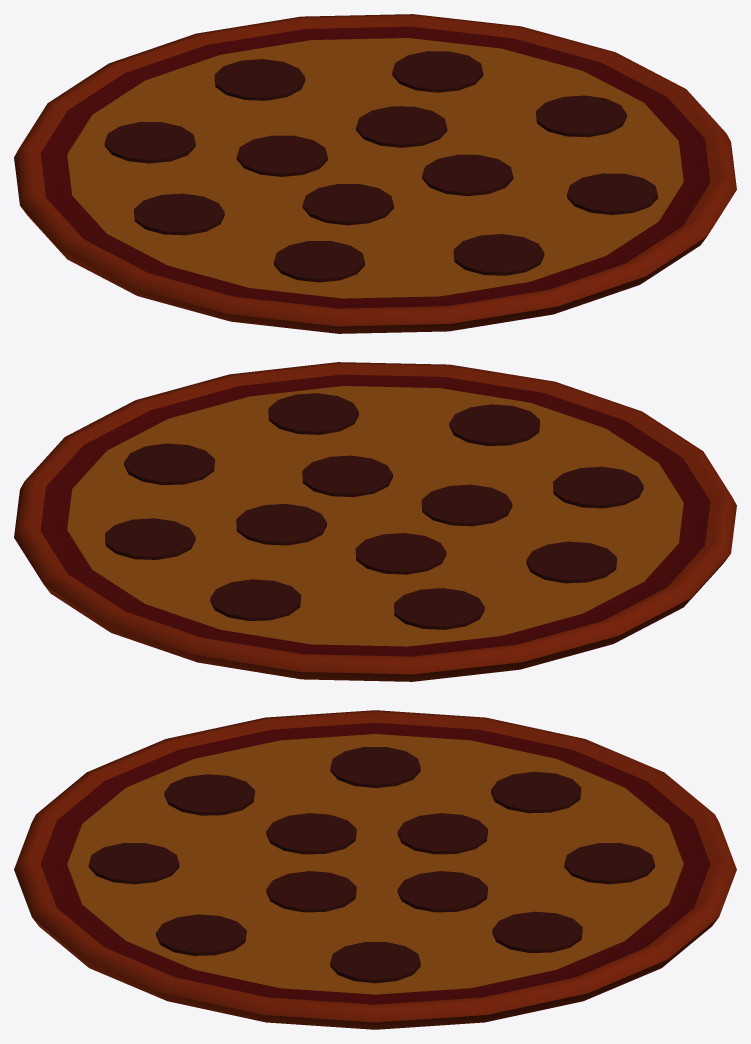
File: Food Court_Pizza.fbx
The picture shows the model from 3 angles, top to bottom: view 1: azimuth 30°, elevation 25°; view 2: azimuth 150°, elevation 25°; view 3: azimuth 270°, elevation 25°; orthographic projection.
Visible parts, largest first — view 1: pCylinder15; view 2: pCylinder15; view 3: pCylinder15.
Boxes of the visible parts, <box> form: pCylinder15: <box>14,14,736,333</box>; pCylinder15: <box>14,362,736,681</box>; pCylinder15: <box>14,710,736,1029</box>.
Bounding box in the file's own units: 1.19 × 0.0528 × 1.19.
